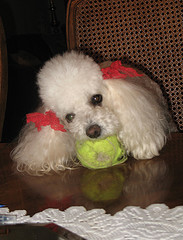tennis ball: (69, 125, 136, 173)
